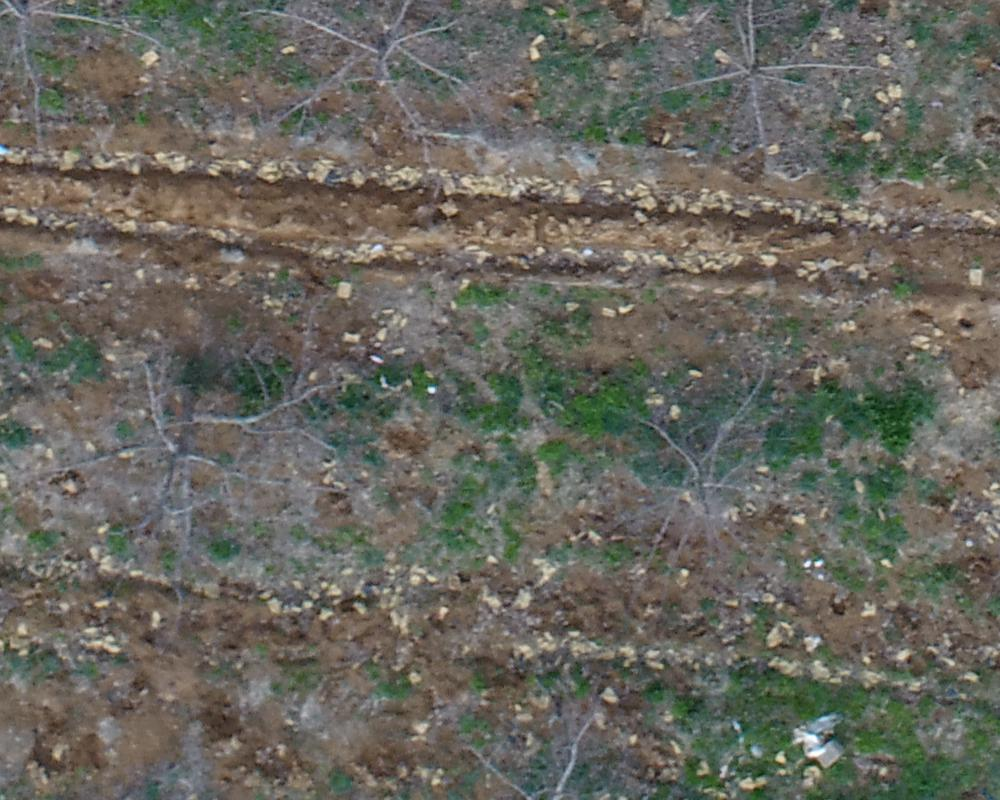apple: (40, 318, 363, 629), (561, 347, 828, 578), (220, 10, 506, 180), (652, 10, 886, 178)
